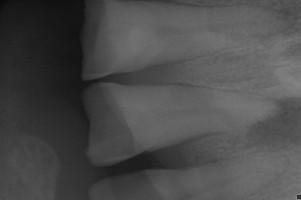Furcation Involvement: (245, 95, 301, 148)
